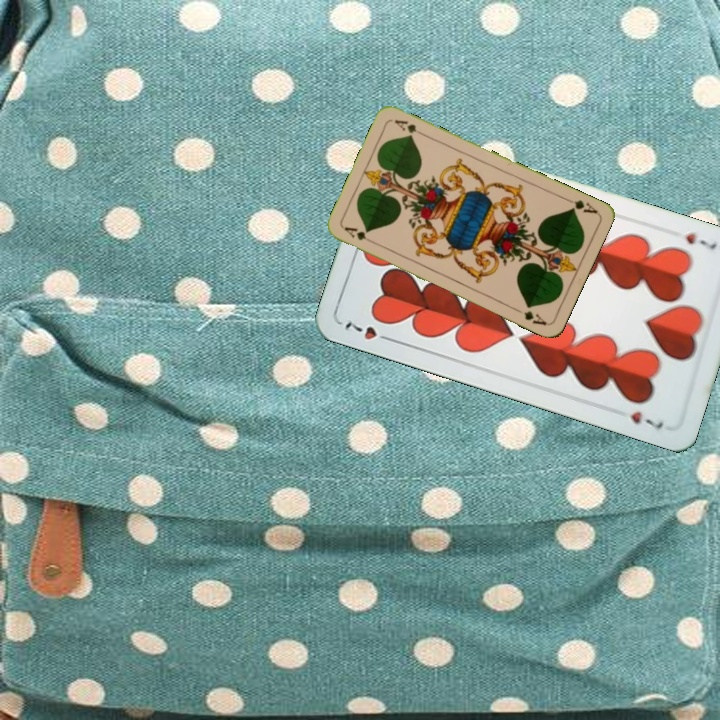GA: (340, 223, 378, 247), (561, 194, 600, 217)
H7: (340, 317, 396, 345), (680, 228, 719, 252)
